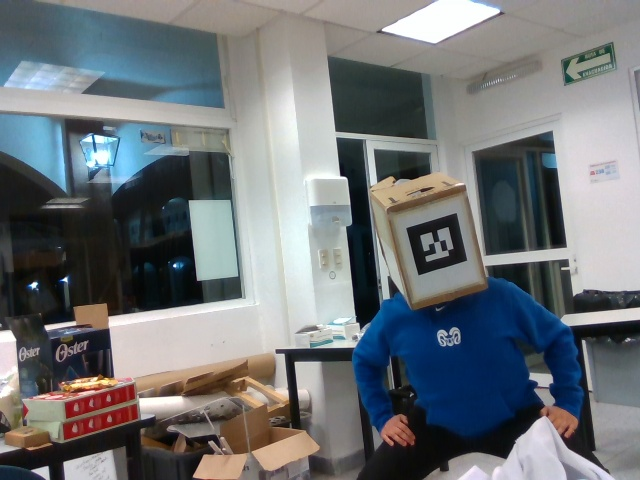ar4: (402, 211, 471, 280)
